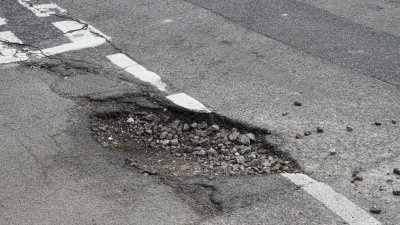pothole: (75, 89, 315, 186)
